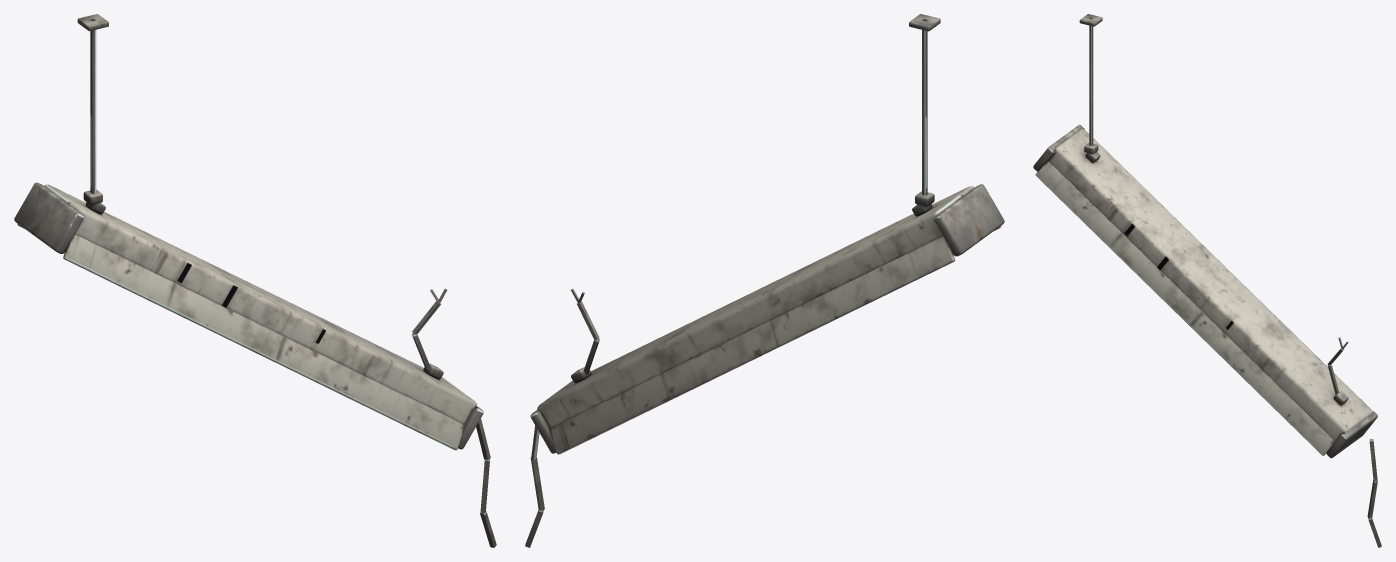
Rendered from light_dangling.fbx.
The picture shows the model from 3 angles, left to right: view 1: azimuth 30°, elevation 25°; view 2: azimuth 150°, elevation 25°; view 3: azimuth 330°, elevation 25°; orthographic projection. The views are drawn at different scales.
Visible parts, largest first — view 1: Body; view 2: Body; view 3: Body.
Boxes of the visible parts, x1,y1,x2,y2 form: Body: (14, 14, 496, 547); Body: (525, 14, 1004, 547); Body: (1033, 14, 1381, 547).
Size of the model in its own units: 7.55 by 9.79 by 1.39.
1 material, 1 textured.
